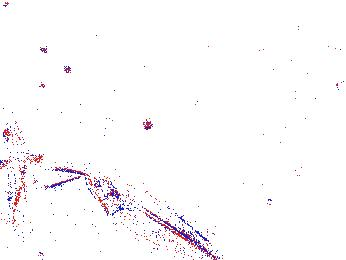X-ray fish: (1, 116, 29, 215)
glassfish: (82, 172, 230, 260)
